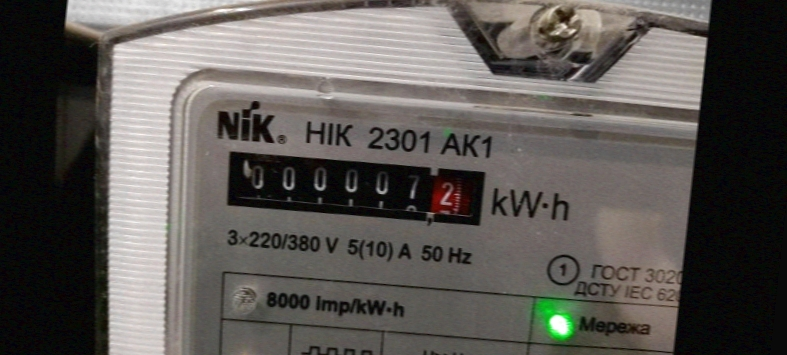0: (310, 160, 329, 190), (247, 159, 267, 187), (341, 163, 361, 191), (279, 160, 298, 189), (373, 165, 391, 195)
2: (437, 177, 456, 205)
7: (404, 168, 422, 199)
screen: (212, 134, 498, 236)
